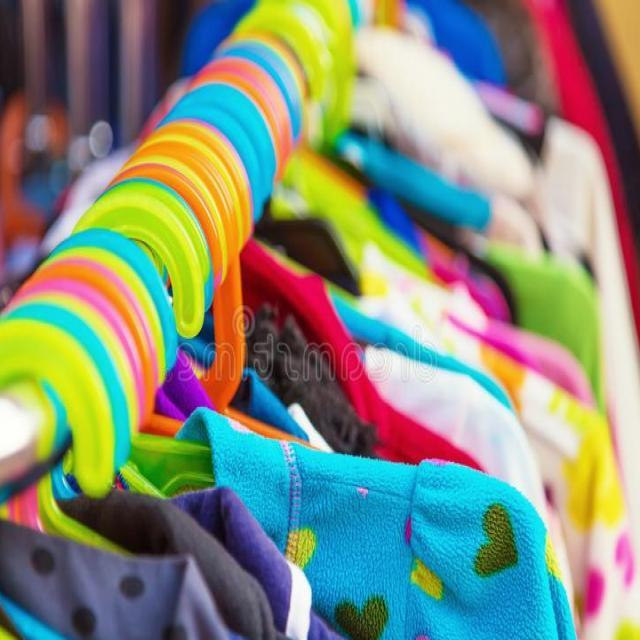clothes: (228, 79, 632, 640), (0, 301, 483, 640)
